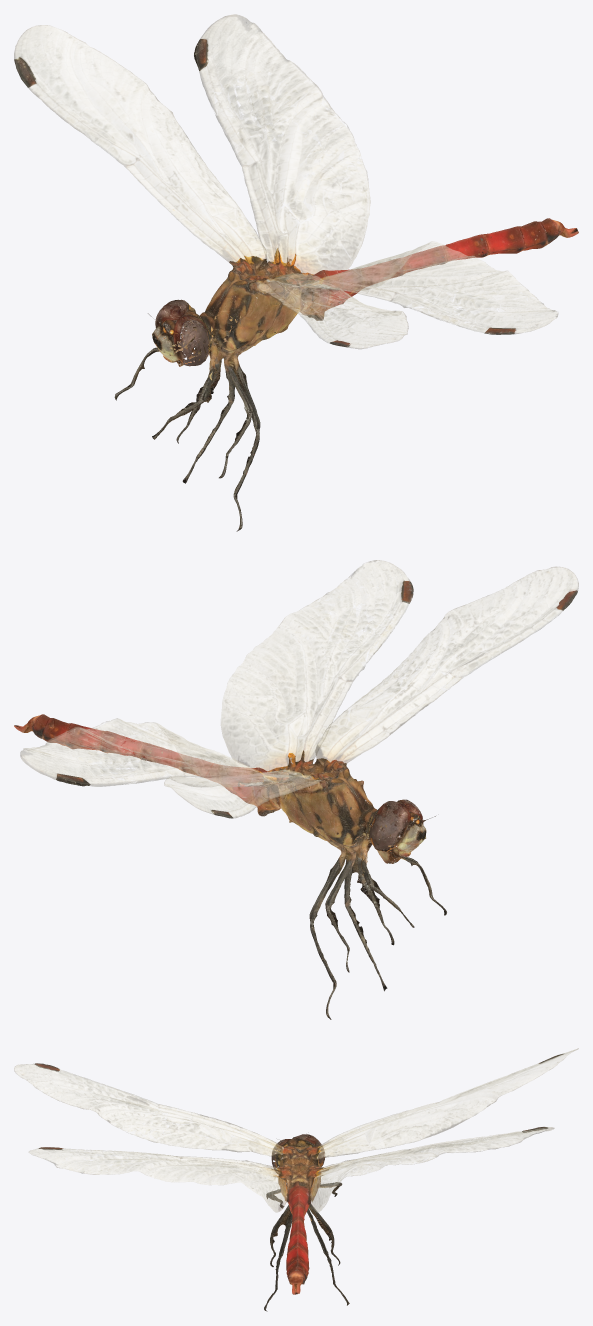
Rendered from libellule-leger.glb.
The picture shows the model from 3 angles, top to bottom: view 1: azimuth 30°, elevation 25°; view 2: azimuth 150°, elevation 25°; view 3: azimuth 270°, elevation 25°; orthographic projection. The views are drawn at different scales.
Visible parts, largest first — view 1: combine_1; view 2: combine_1; view 3: combine_1.
Boxes of the visible parts, x1,y1,x2,y2 form: combine_1: (14, 14, 578, 531); combine_1: (14, 560, 578, 1019); combine_1: (14, 1048, 578, 1311).
Size of the model in its own units: 0.0408 by 0.0316 by 0.0609.
Materials: 2 (2 with a texture image).
